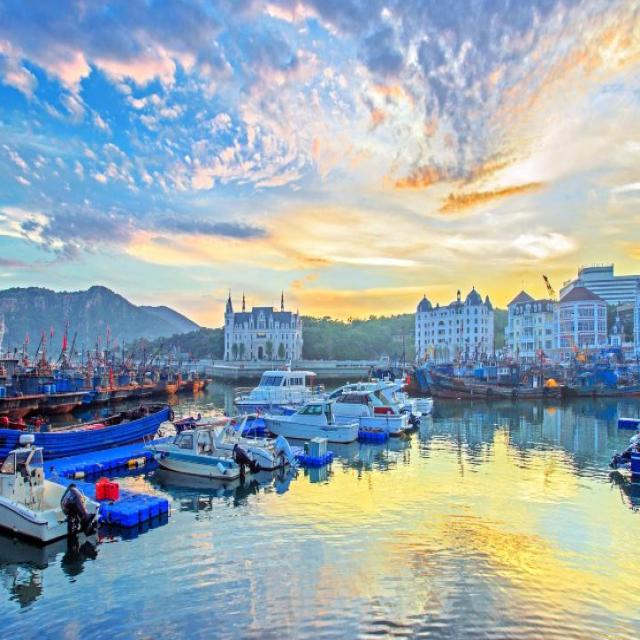houseboat: (330, 382, 410, 427), (228, 373, 321, 408)
